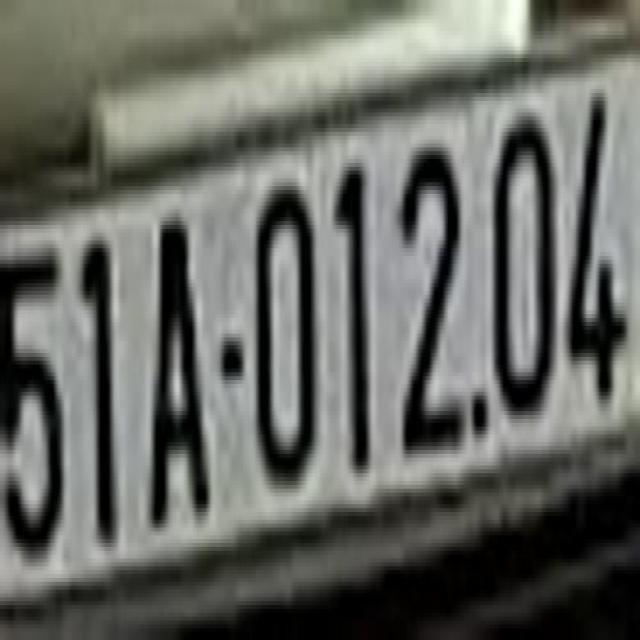0: (256, 167, 318, 492), (497, 120, 555, 400)
1: (335, 140, 373, 473), (81, 217, 118, 535)
2: (400, 140, 462, 458)
4: (572, 89, 623, 392)
5: (0, 248, 65, 555)
A: (151, 217, 208, 508)
